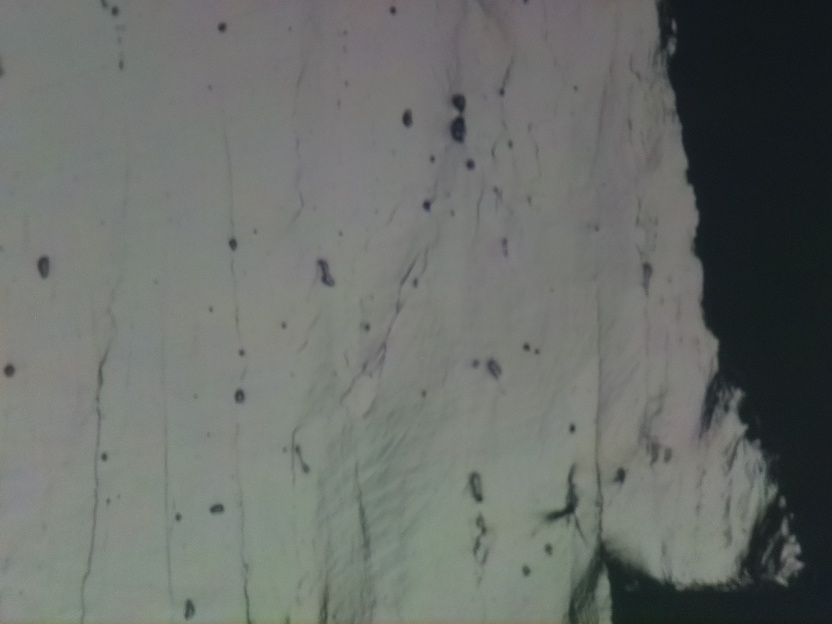crack: (615, 0, 832, 624)
